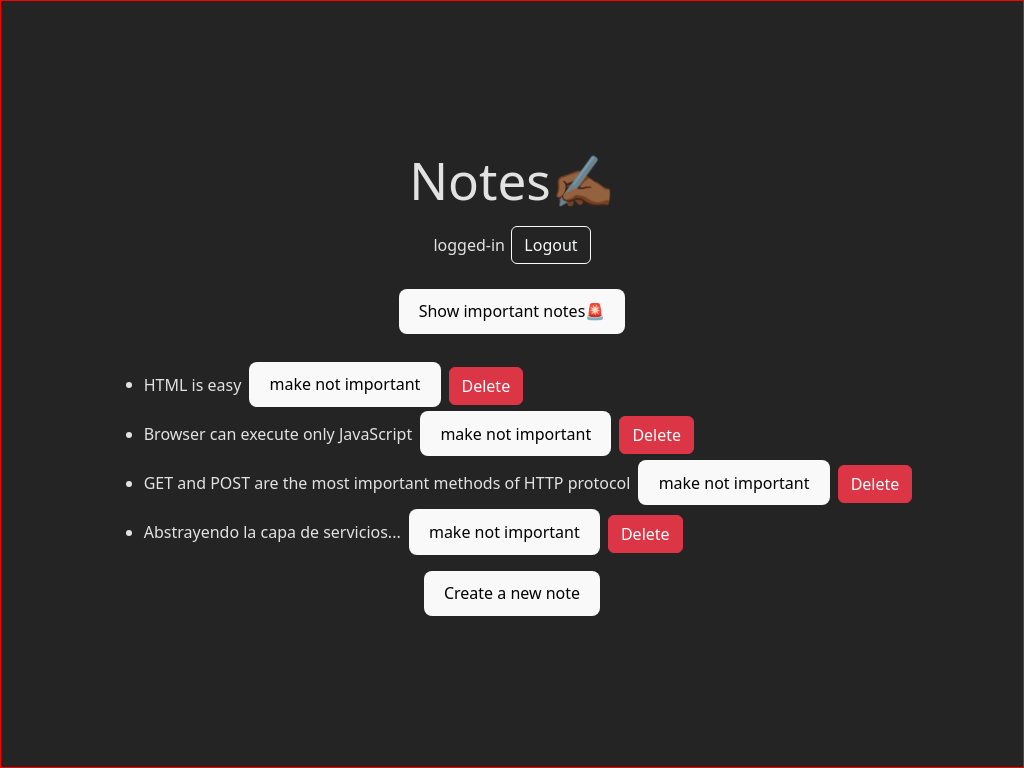
Test case: Note app › when logged in › a new note can be created
The image size is (1024, 768).
Click the button "Create a new note" at (513, 594), box [424, 571, 601, 616]
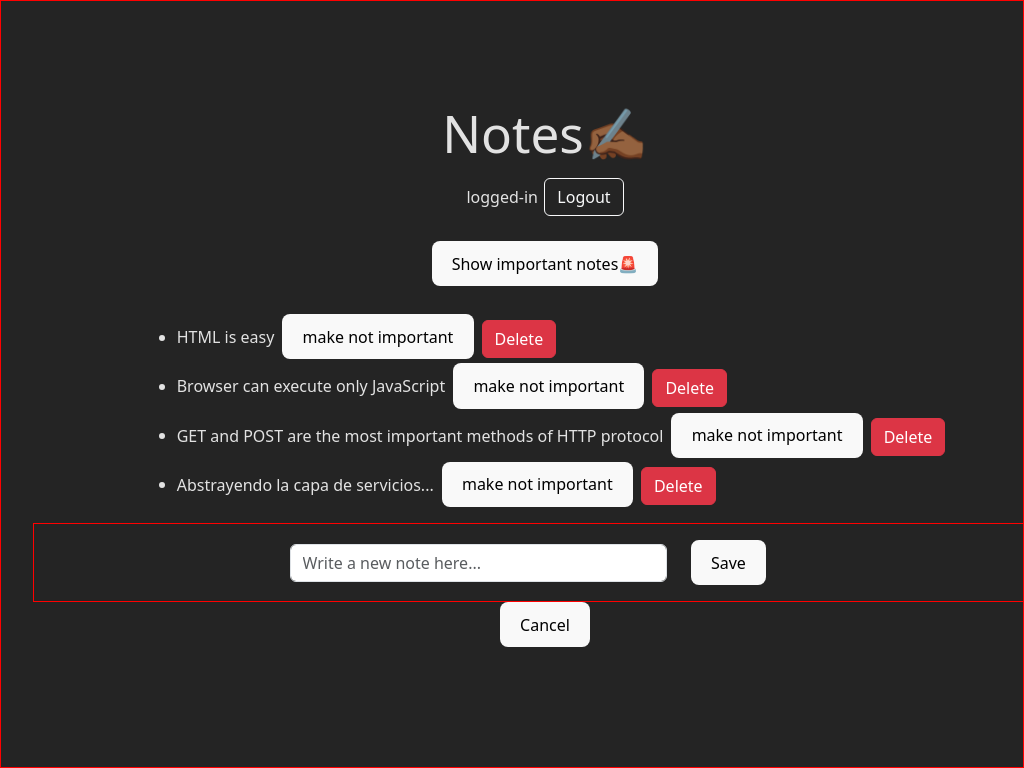
Type "Creating a new note from Cypress thanks god" into the field with id "addNote" at (479, 563), box [290, 544, 667, 582]
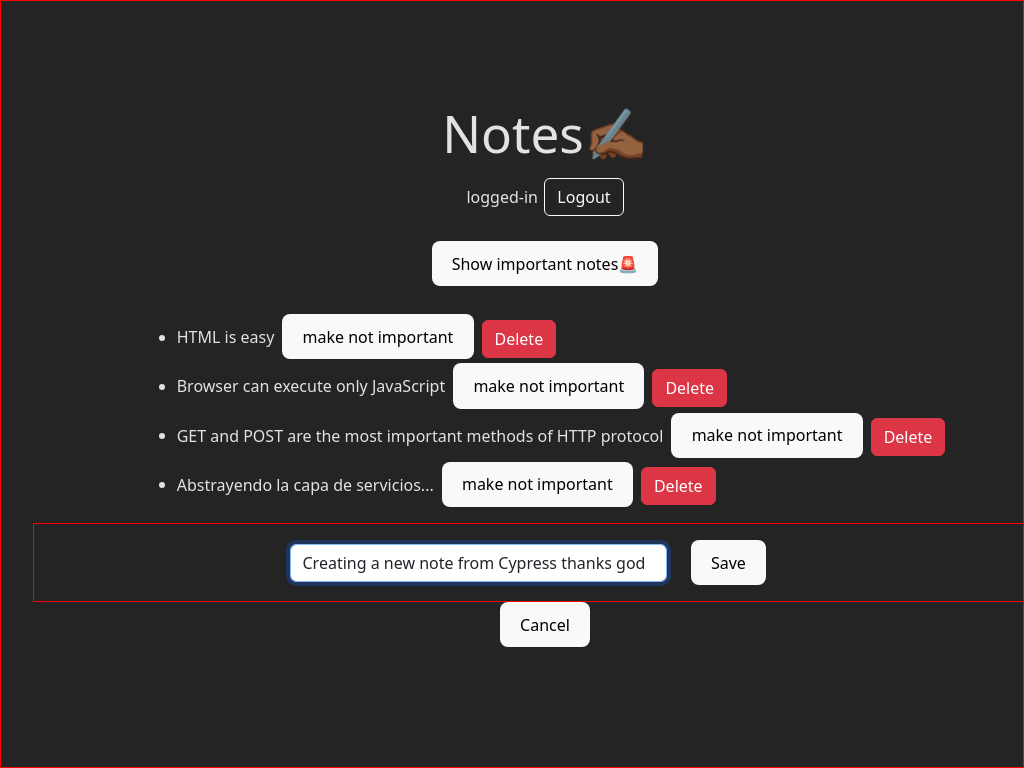
Click the button "Save" at (729, 563), box [691, 540, 766, 585]
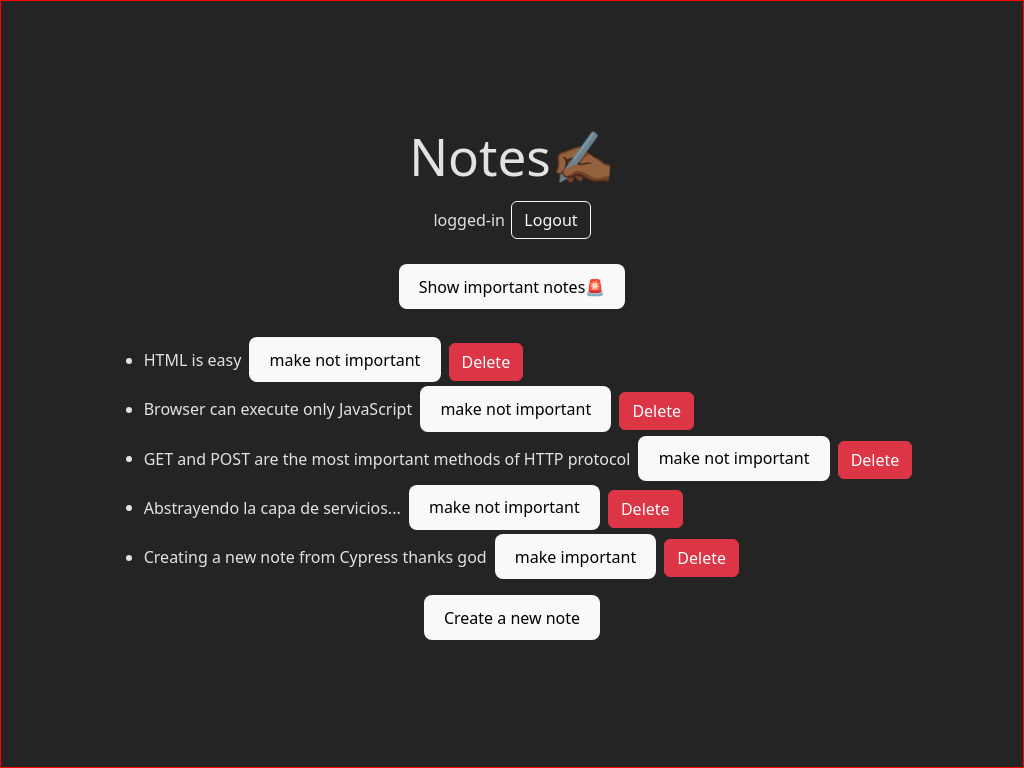
Now the text "Creating a new note from Cypress thanks god" is shown, box [144, 546, 487, 568]
